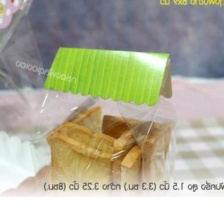snack: (26, 38, 183, 195)
